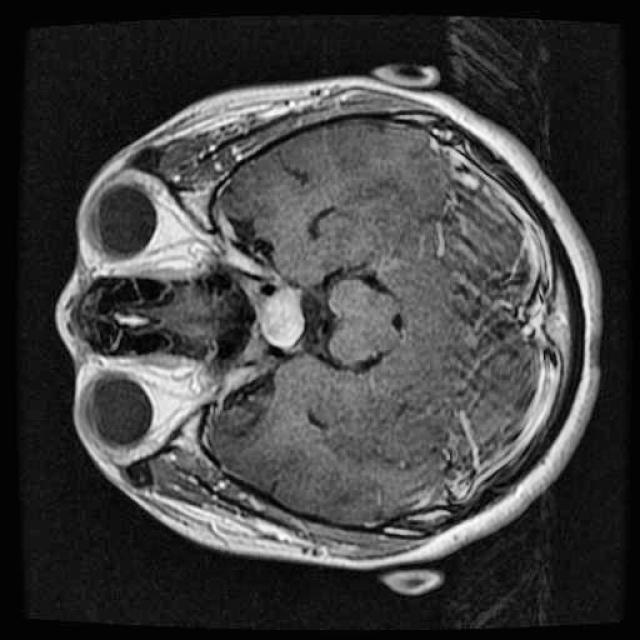Tumor: (249, 276, 311, 350)
